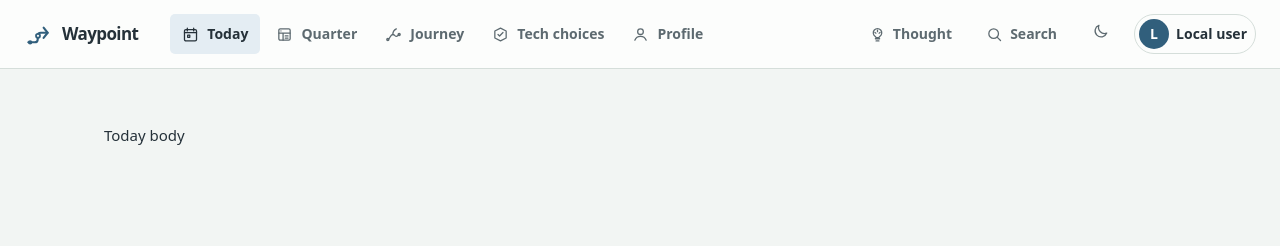
Test: application shell › offers a keyboard skip link and moves focus to main content after route navigation
Press Tab
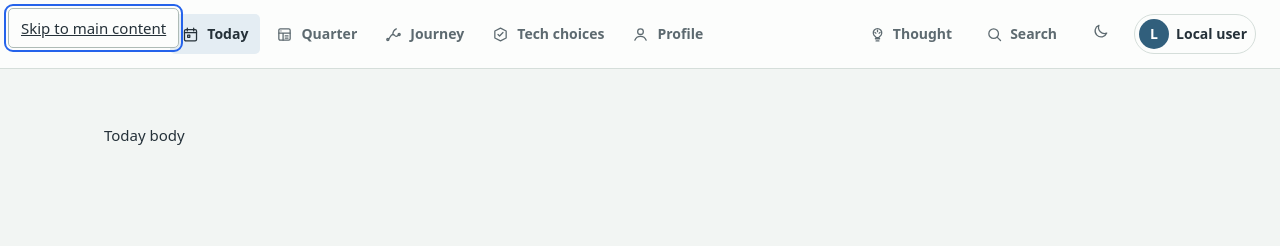
Click the link "Skip to main content". click: {"x": 94, "y": 28}
box: [8, 8, 179, 48]
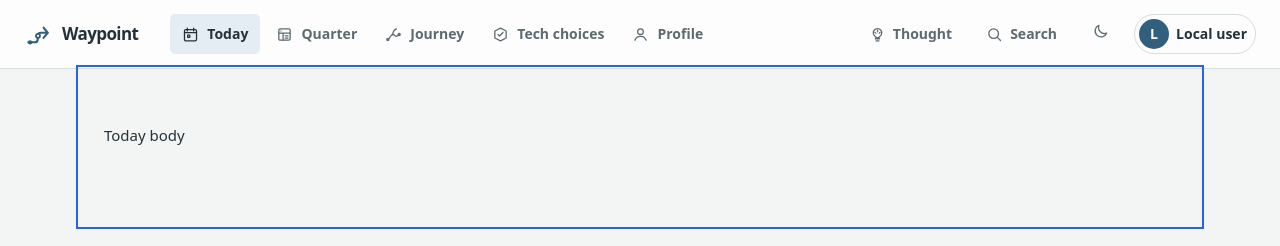
Click the link "Quarter". click: {"x": 317, "y": 34}
box: [276, 24, 357, 43]
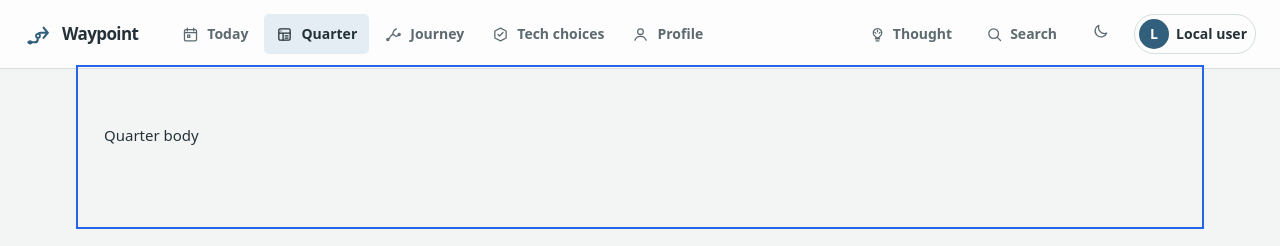
expect the text "Quarter body" is shown: met, box [104, 125, 199, 145]
